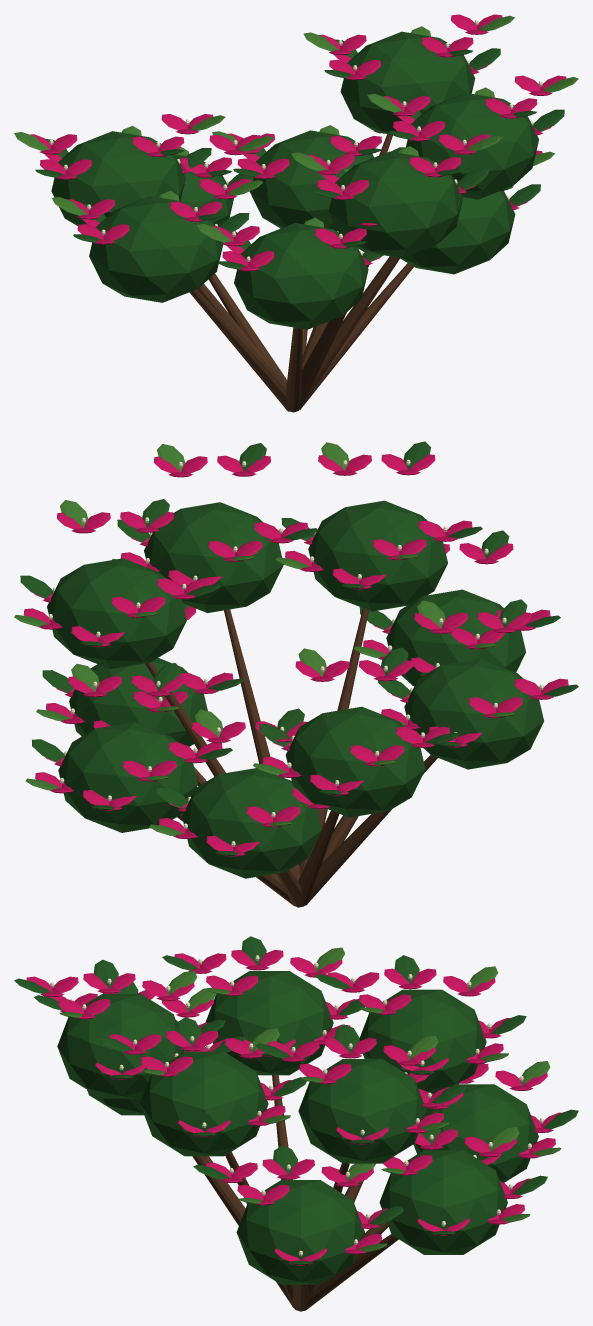
3 views of the same model, one above another, from view 1: azimuth 30°, elevation 25°; view 2: azimuth 150°, elevation 25°; view 3: azimuth 270°, elevation 25° (orthographic). The views are drawn at different scales.
Visible parts, largest first — view 1: FOLIAGE_Dense.008, FOLIAGE_Dense.005, FOLIAGE_Dense.003, FOLIAGE_Dense, FOLIAGE_Dense.006, FOLIAGE_Dense.002, FOLIAGE_Dense.004, FOLIAGE_Dense.001, BRACTS_MagentaCluster.002, BRACTS_MagentaCluster.008, BRACTS_MagentaCluster.001, BRACTS_MagentaCluster.005 (+22 smaller); view 2: FOLIAGE_Dense, FOLIAGE_Dense.002, FOLIAGE_Dense.003, FOLIAGE_Dense.007, FOLIAGE_Dense.005, FOLIAGE_Dense.004, FOLIAGE_Dense.006, FOLIAGE_Dense.008, FOLIAGE_Dense.001, BRACTS_MagentaCluster.003, BRACTS_MagentaCluster.008, BRACTS_MagentaCluster.001 (+21 smaller); view 3: FOLIAGE_Dense.006, FOLIAGE_Dense, FOLIAGE_Dense.001, FOLIAGE_Dense.004, FOLIAGE_Dense.003, FOLIAGE_Dense.005, FOLIAGE_Dense.002, FOLIAGE_Dense.007, BRACTS_MagentaCluster.008, BRACTS_MagentaCluster, BRACTS_MagentaCluster.001, BRACTS_MagentaCluster.005 (+17 smaller).
Part boxes in pixels (x1,y1,x2,y2): FOLIAGE_Dense.008: (234, 223, 368, 329); FOLIAGE_Dense.005: (89, 196, 223, 302); FOLIAGE_Dense.003: (328, 151, 462, 258); FOLIAGE_Dense: (340, 31, 475, 134); FOLIAGE_Dense.006: (406, 93, 538, 199); FOLIAGE_Dense.002: (51, 131, 185, 225); FOLIAGE_Dense.004: (249, 130, 373, 231); FOLIAGE_Dense.001: (400, 191, 515, 274); BRACTS_MagentaCluster.002: (307, 134, 490, 199); BRACTS_MagentaCluster.008: (319, 14, 502, 79); BRACTS_MagentaCluster.001: (30, 114, 213, 179); BRACTS_MagentaCluster.005: (383, 75, 566, 141); FOLIAGE_Dense: (47, 558, 186, 669); FOLIAGE_Dense.002: (285, 706, 425, 817); FOLIAGE_Dense.003: (308, 500, 447, 611); FOLIAGE_Dense.007: (182, 768, 321, 878); FOLIAGE_Dense.005: (404, 658, 543, 769); FOLIAGE_Dense.004: (58, 722, 197, 832); FOLIAGE_Dense.006: (144, 502, 283, 612); FOLIAGE_Dense.008: (386, 589, 525, 686); FOLIAGE_Dense.001: (69, 658, 207, 746); BRACTS_MagentaCluster.003: (35, 675, 222, 810); BRACTS_MagentaCluster.008: (23, 511, 210, 647); BRACTS_MagentaCluster.001: (262, 660, 449, 795); FOLIAGE_Dense.006: (140, 1051, 268, 1156); FOLIAGE_Dense: (298, 1059, 426, 1163); FOLIAGE_Dense.001: (236, 1180, 364, 1284); FOLIAGE_Dense.004: (379, 1150, 507, 1254); FOLIAGE_Dense.003: (57, 994, 184, 1098); FOLIAGE_Dense.005: (205, 971, 333, 1075); FOLIAGE_Dense.002: (359, 989, 486, 1094); FOLIAGE_Dense.007: (413, 1084, 538, 1182); BRACTS_MagentaCluster.008: (267, 1038, 449, 1144); BRACTS_MagentaCluster: (206, 1159, 387, 1265); BRACTS_MagentaCluster.001: (327, 968, 509, 1075); BRACTS_MagentaCluster.005: (109, 1030, 291, 1137).
Bounding box in the file's own units: 2.22 × 1.46 × 2.2.
